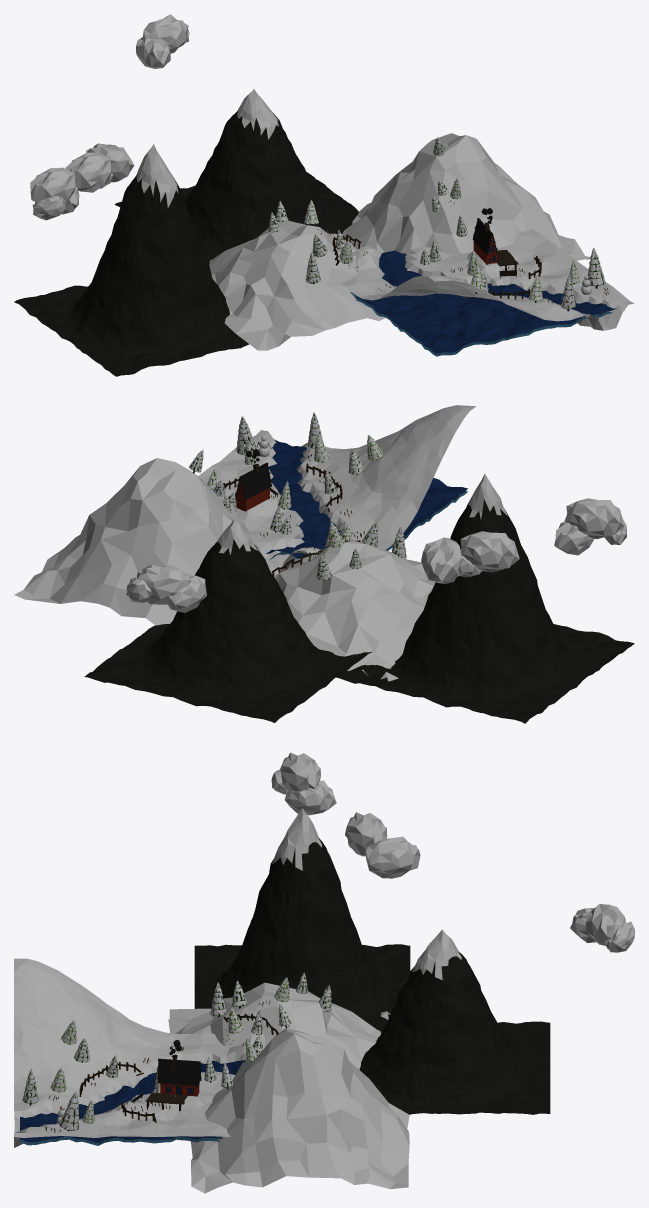
The model's file is WinterScene.obj.
3 renders of one model, top to bottom at view 1: azimuth 30°, elevation 25°; view 2: azimuth 150°, elevation 25°; view 3: azimuth 270°, elevation 25°, orthographic. The views are drawn at different scales.
Visible parts, largest first — view 1: Plane.035, Plane.033, Plane.034, Plane.032, Plane.002_Plane.004, Plane_Plane.001, Cylinder.014_Cylinder.024, Icosphere.002, Icosphere.004, Icosphere.007, Icosphere.006, Plane.001_Plane.002 (+3 smaller); view 2: Plane.035, Plane.034, Plane.033, Plane.002_Plane.004, Plane.032, Cylinder.014_Cylinder.024, Plane_Plane.001, Icosphere.002, Icosphere.004, Icosphere, Icosphere.007, Cube.001_Cube.002 (+3 smaller); view 3: Plane.033, Plane.002_Plane.004, Plane.034, Plane.035, Plane.032, Cylinder.014_Cylinder.024, Plane_Plane.001, Icosphere, Cube.001_Cube.002, Icosphere.004, Icosphere.002, Icosphere.005 (+3 smaller).
Part boxes in pixels (bbox=[...]): Plane.035: bbox=[14, 144, 248, 376]; Plane.033: bbox=[342, 133, 590, 260]; Plane.034: bbox=[114, 89, 358, 263]; Plane.032: bbox=[209, 220, 385, 350]; Plane.002_Plane.004: bbox=[339, 228, 634, 330]; Plane_Plane.001: bbox=[355, 250, 616, 353]; Cylinder.014_Cylinder.024: bbox=[268, 137, 605, 311]; Icosphere.002: bbox=[65, 152, 112, 192]; Icosphere.004: bbox=[30, 167, 76, 202]; Icosphere.007: bbox=[143, 14, 188, 53]; Icosphere.006: bbox=[136, 37, 170, 68]; Plane.001_Plane.002: bbox=[350, 292, 624, 356]; Plane.035: bbox=[336, 473, 634, 723]; Plane.034: bbox=[84, 518, 372, 722]; Plane.033: bbox=[14, 458, 278, 625]; Plane.002_Plane.004: bbox=[198, 405, 476, 572]; Plane.032: bbox=[274, 540, 435, 681]; Cylinder.014_Cylinder.024: bbox=[189, 412, 406, 580]; Plane_Plane.001: bbox=[266, 439, 467, 558]; Icosphere.002: bbox=[460, 531, 519, 572]; Icosphere.004: bbox=[564, 498, 624, 538]; Icosphere: bbox=[421, 537, 462, 583]; Icosphere.007: bbox=[136, 564, 190, 604]; Cube.001_Cube.002: bbox=[235, 462, 271, 511]; Plane.033: bbox=[191, 1028, 409, 1193]; Plane.002_Plane.004: bbox=[14, 958, 256, 1147]; Plane.034: bbox=[359, 929, 550, 1114]; Plane.035: bbox=[194, 808, 410, 1022]; Plane.032: bbox=[168, 982, 390, 1069]; Cylinder.014_Cylinder.024: bbox=[22, 972, 331, 1131]; Plane_Plane.001: bbox=[20, 1047, 245, 1142]; Icosphere: bbox=[365, 836, 420, 878]; Cube.001_Cube.002: bbox=[157, 1058, 201, 1096]; Icosphere.004: bbox=[280, 752, 320, 791]; Icosphere.002: bbox=[345, 812, 387, 856]; Icosphere.005: bbox=[284, 780, 336, 815].
Size of the model in its own units: 34.73 by 12.18 by 34.42.
